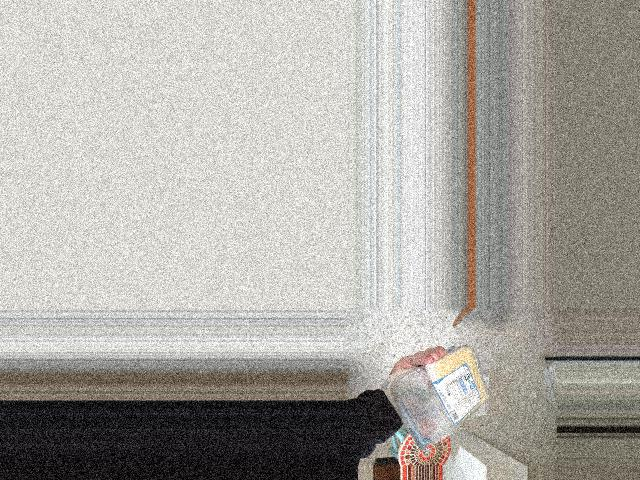cheese: (396, 357, 496, 450)
